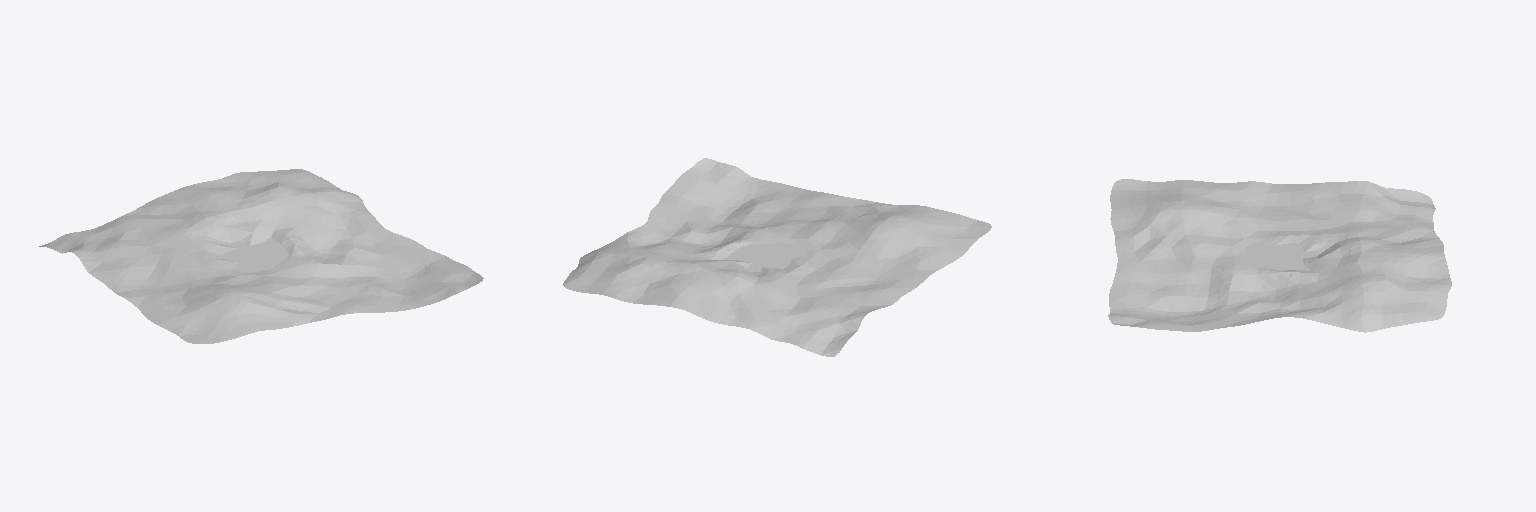
File: marsground.obj
The picture shows the model from 3 angles: view 1: azimuth 30°, elevation 25°; view 2: azimuth 150°, elevation 25°; view 3: azimuth 270°, elevation 25°; orthographic projection.
Visible parts, largest first — view 1: Plane, Plane.001; view 2: Plane, Plane.001; view 3: Plane, Plane.001.
Boxes of the visible parts, x1=… form: Plane: x1=39, y1=169, x2=483, y2=343; Plane.001: x1=222, y1=237, x2=288, y2=272; Plane: x1=563, y1=158, x2=991, y2=356; Plane.001: x1=722, y1=243, x2=807, y2=272; Plane: x1=1108, y1=179, x2=1451, y2=332; Plane.001: x1=1245, y1=242, x2=1317, y2=270.
Bounding box in the file's own units: 26.1 × 2.39 × 26.12.